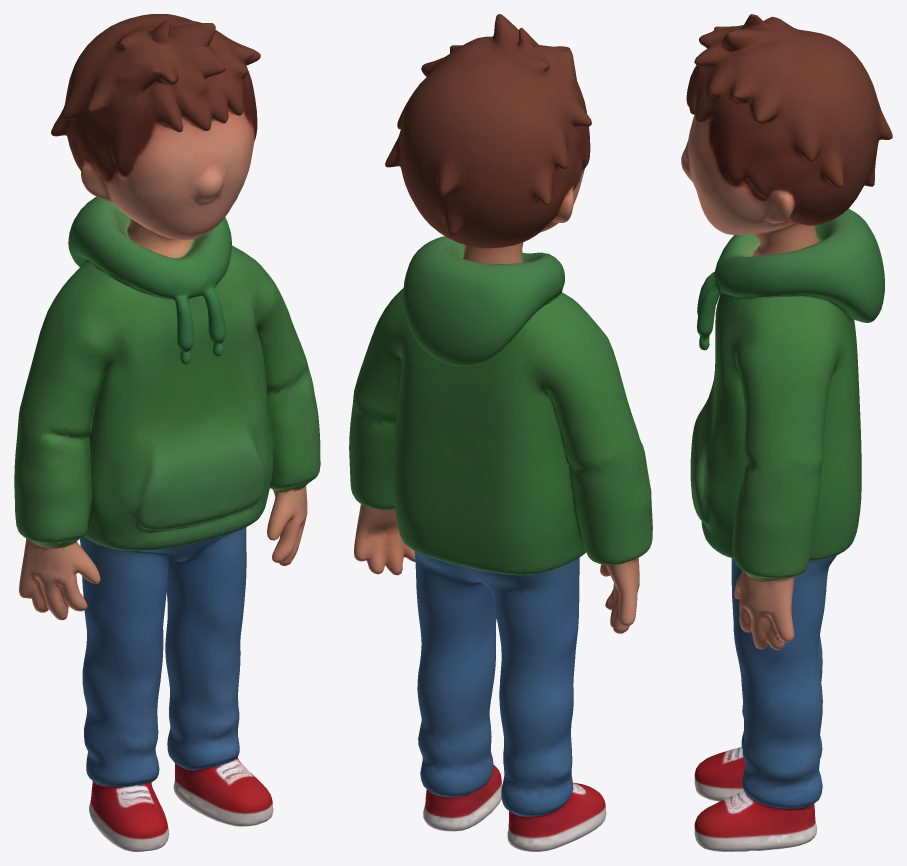
Rendered from boy.glb.
3 renders of one model, left to right at view 1: azimuth 30°, elevation 25°; view 2: azimuth 150°, elevation 25°; view 3: azimuth 270°, elevation 25°, orthographic.
Parts seen in each view (by area): view 1: Mesh; view 2: Mesh; view 3: Mesh.
Part boxes in pixels (x1=…): Mesh: x1=14, y1=14, x2=320, y2=851; Mesh: x1=349, y1=14, x2=652, y2=851; Mesh: x1=681, y1=14, x2=892, y2=851.
Bounding box in the file's own units: 0.7333 × 1.91 × 0.4597.
Materials: 1 (1 with a texture image).
